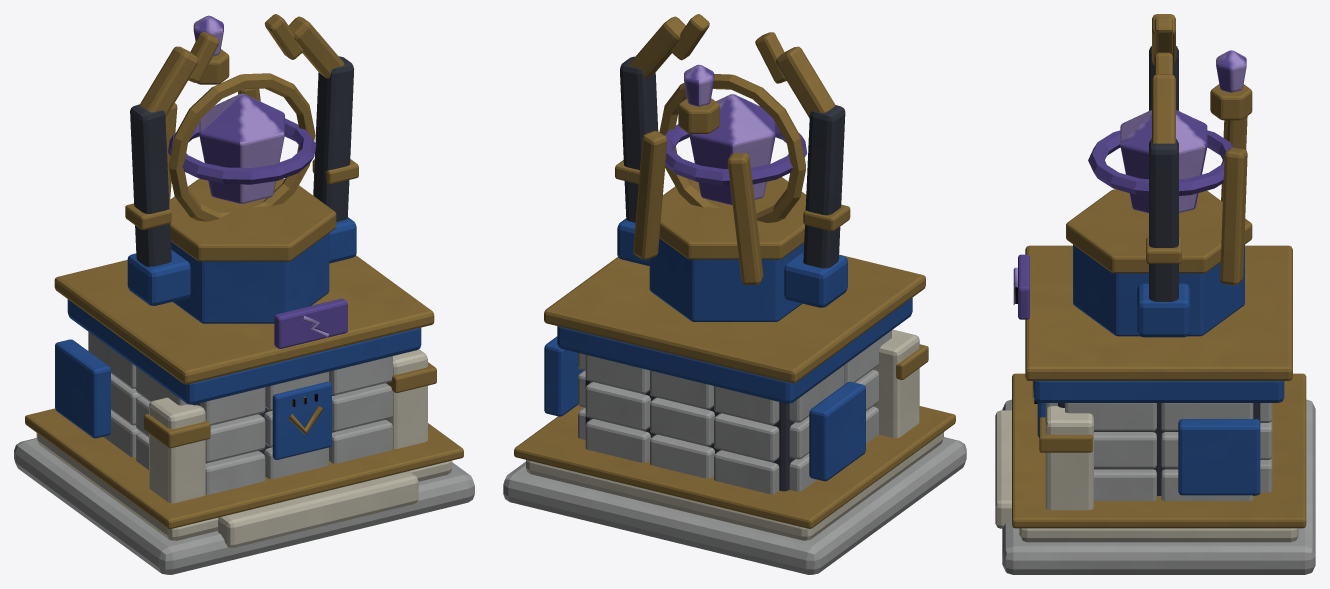
File: electric_tower_high.glb
The picture shows the model from 3 angles, left to right: view 1: azimuth 30°, elevation 25°; view 2: azimuth 150°, elevation 25°; view 3: azimuth 270°, elevation 25°; orthographic projection.
Parts seen in each view (by area): view 1: electric_tower_high_surface; view 2: electric_tower_high_surface; view 3: electric_tower_high_surface.
Part boxes in pixels (<box>): electric_tower_high_surface: <box>14,14,474,574</box>; electric_tower_high_surface: <box>503,14,966,574</box>; electric_tower_high_surface: <box>995,14,1315,574</box>.
Bounding box in the file's own units: 1.53 × 2.13 × 1.33.
1 material, 1 textured.
